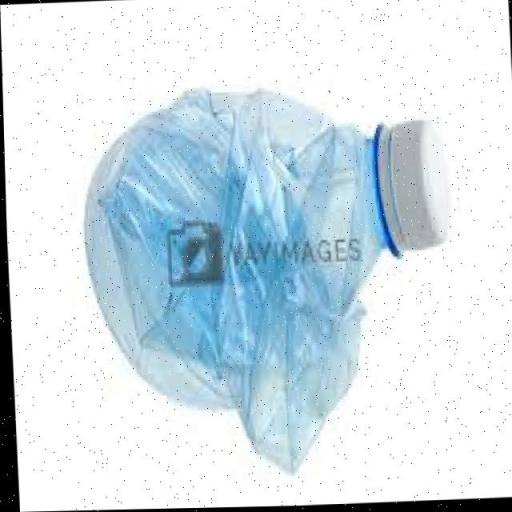plastic: (62, 72, 462, 478)
